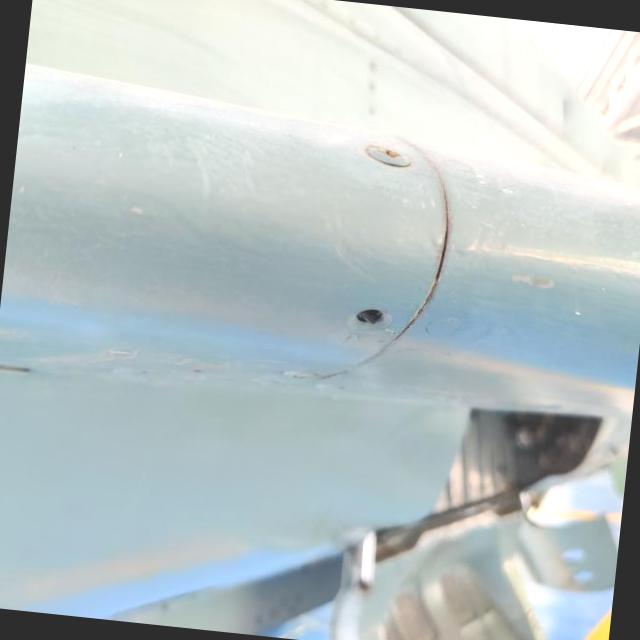Missing Fastener: (348, 304, 391, 330)
